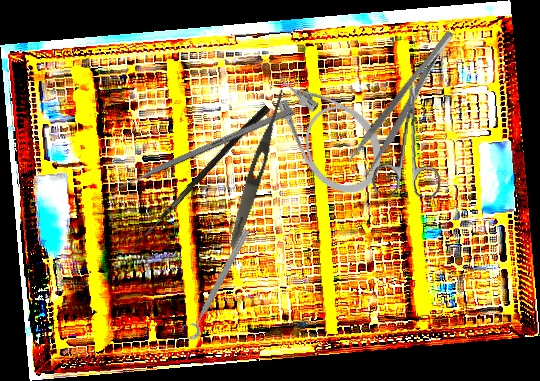Cannula: (257, 48, 399, 209)
Dressing Forceps: (345, 27, 468, 178), (225, 86, 289, 251)
Fixation Ring: (177, 224, 254, 342)
Hook Surgical: (129, 102, 271, 257)
Iris Scissors: (371, 80, 450, 199)
Pusher: (104, 106, 294, 197)
